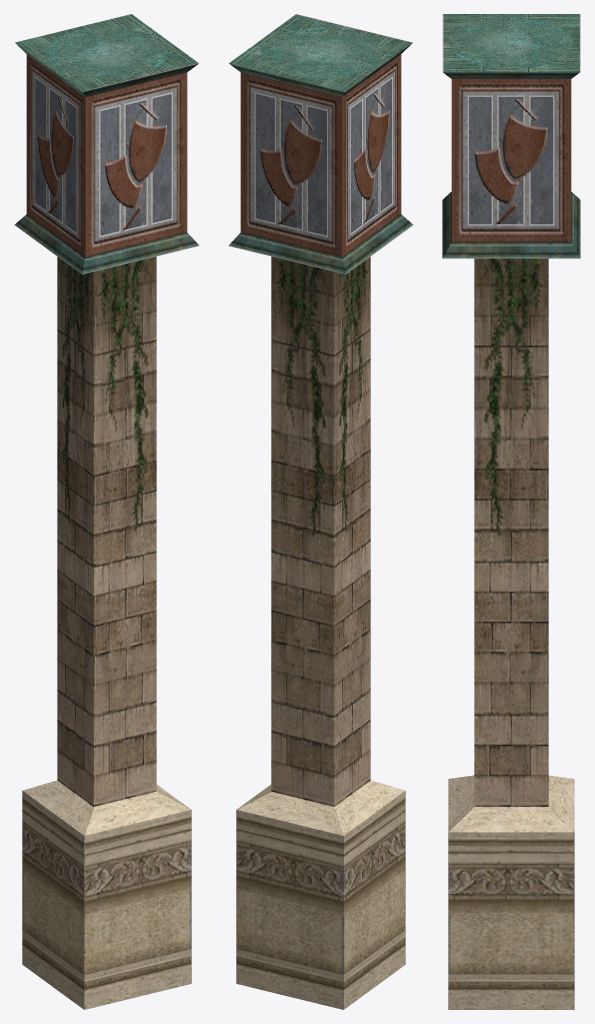
The model's file is thm_sign_nboo_standing_l1.fbx.
3 renders of one model, left to right at view 1: azimuth 30°, elevation 25°; view 2: azimuth 150°, elevation 25°; view 3: azimuth 270°, elevation 25°, orthographic. The views are drawn at different scales.
Parts seen in each view (by area): view 1: mesh_node; view 2: mesh_node; view 3: mesh_node.
Boxes of the visible parts, <box> form: mesh_node: <box>14,14,199,1009</box>; mesh_node: <box>228,14,413,1009</box>; mesh_node: <box>442,14,580,1009</box>.
Bounding box in the file's own units: 0.6558 × 4.91 × 0.6558.
